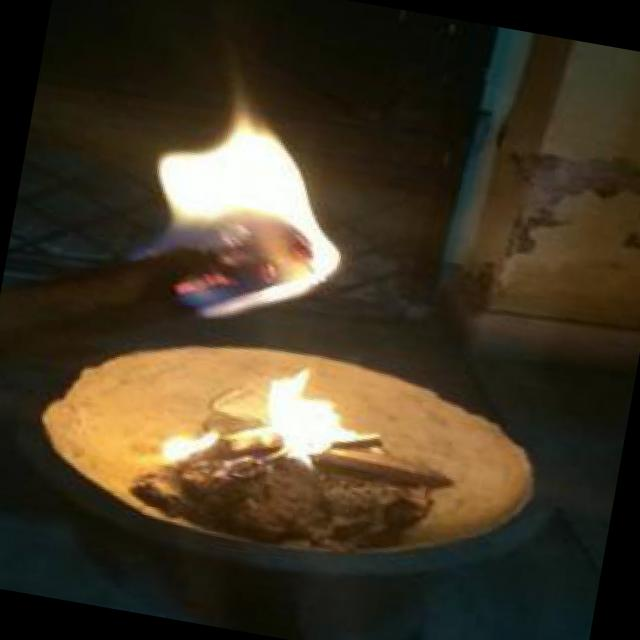fire: (112, 66, 378, 350), (148, 346, 362, 486)
